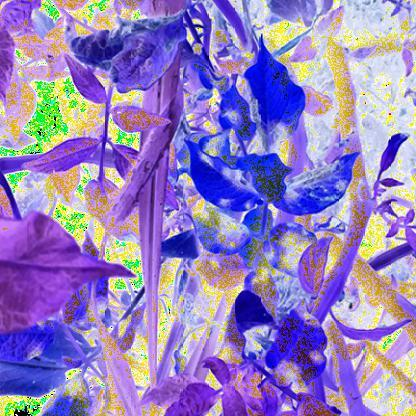Potato leaf: (184, 143, 359, 216), (68, 6, 190, 98), (242, 28, 304, 159), (262, 306, 332, 392), (262, 220, 326, 283), (189, 204, 251, 254), (213, 86, 258, 153)
